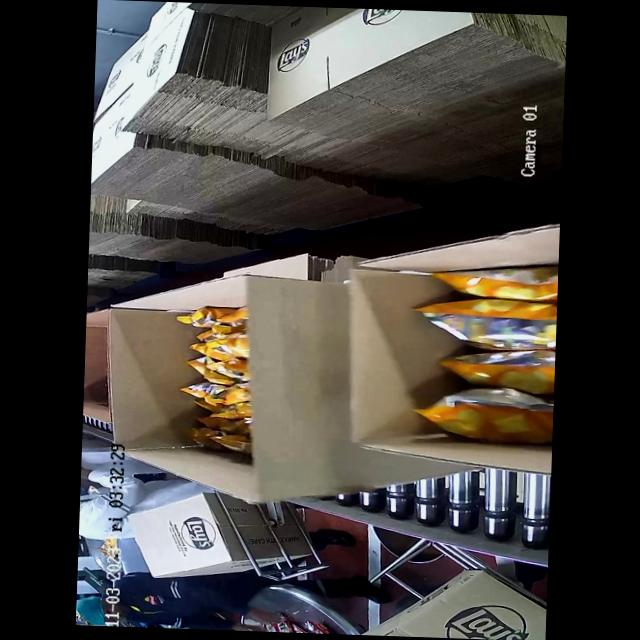cheese: (407, 255, 558, 453), (176, 294, 252, 452)
